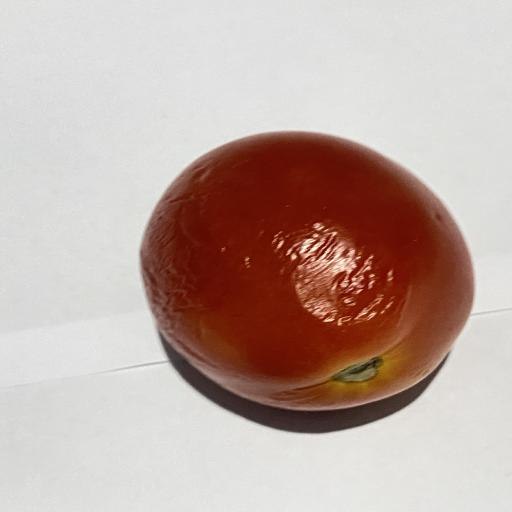spoiled: (141, 132, 473, 410)
